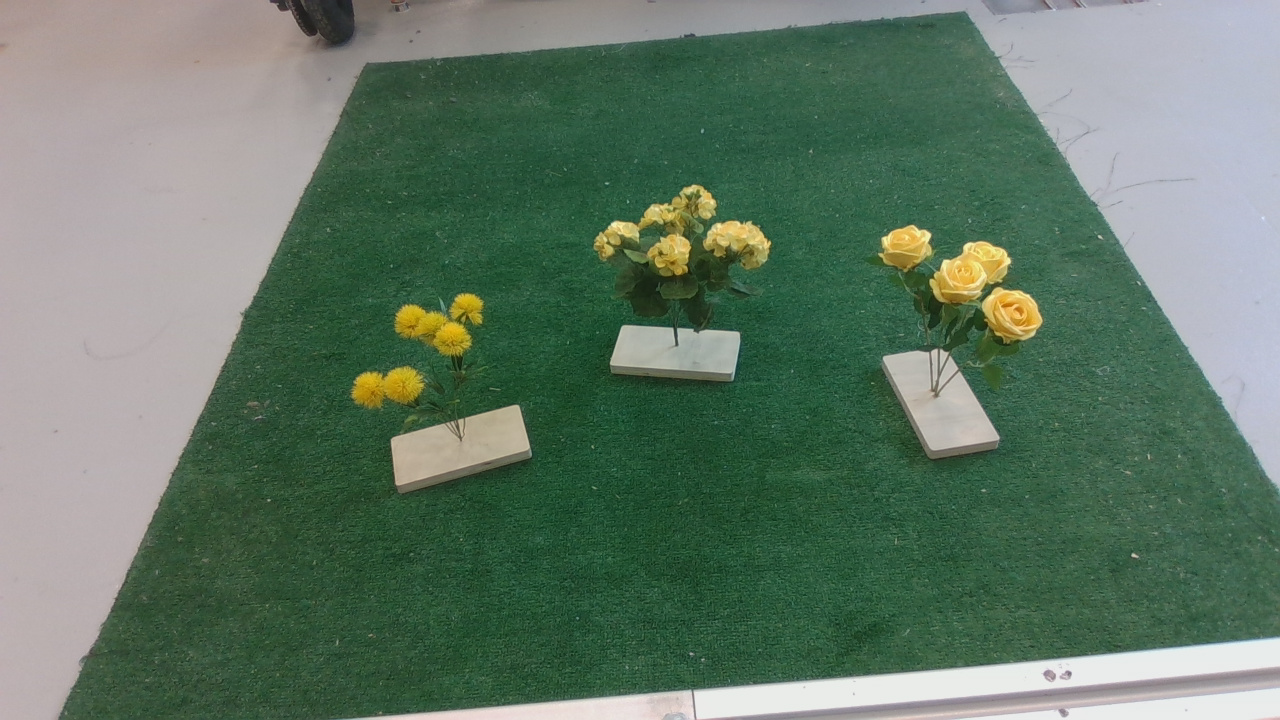dandelion: (348, 282, 504, 436)
geranium: (590, 185, 786, 323)
rose: (875, 205, 1055, 402)
